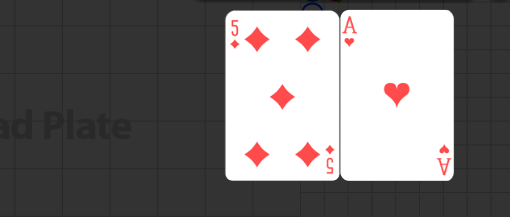5D: (229, 18, 241, 51)
AH: (435, 141, 452, 176)
